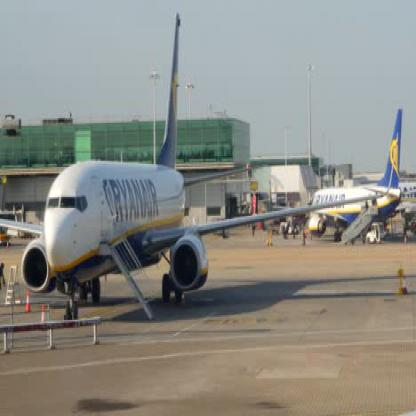CIV_Plane: (16, 10, 370, 310), (302, 104, 402, 244)
